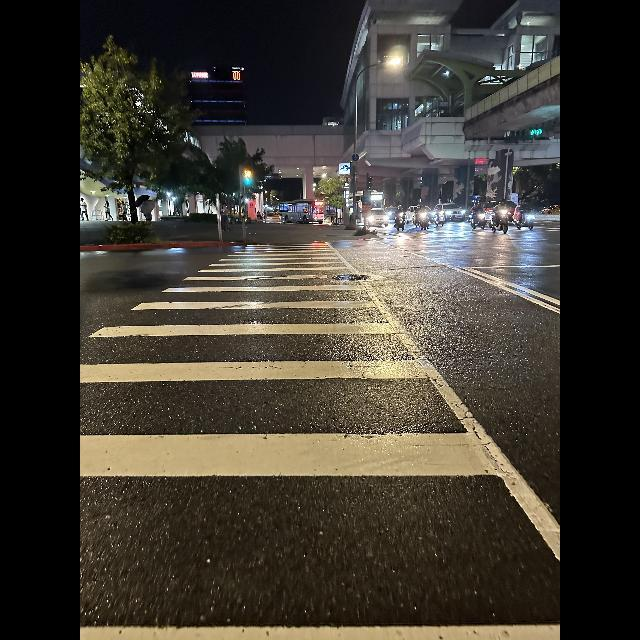sidewalk: (80, 243, 560, 640)
